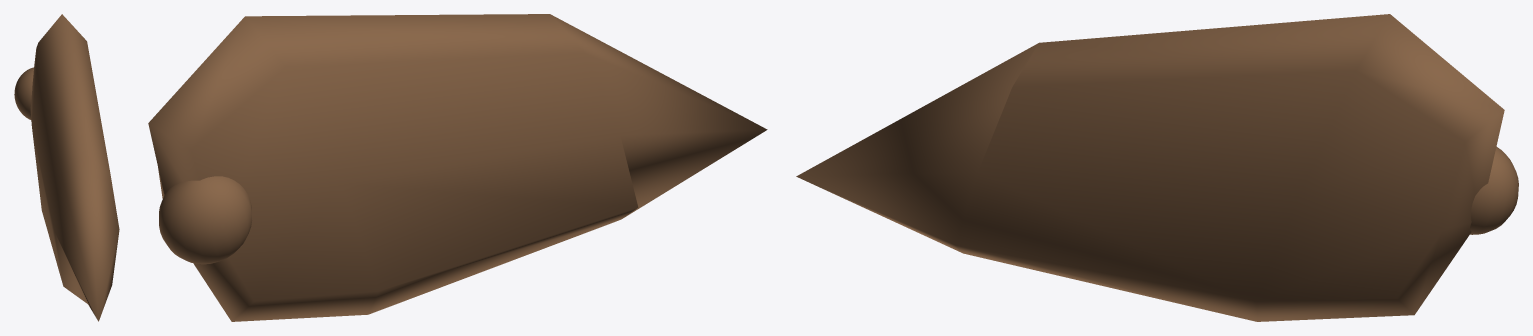
File: Right wing.fbx
3 renders of one model, left to right at view 1: azimuth 30°, elevation 25°; view 2: azimuth 150°, elevation 25°; view 3: azimuth 270°, elevation 25°, orthographic. The views are drawn at different scales.
Visible parts, largest first — view 1: polySurface44; view 2: polySurface44; view 3: polySurface44.
Boxes of the visible parts, x1,y1,x2,y2 form: polySurface44: [14, 14, 119, 321]; polySurface44: [148, 14, 767, 321]; polySurface44: [796, 14, 1518, 321].
Bounding box in the file's own units: 0.6917 × 0.7728 × 1.51.
